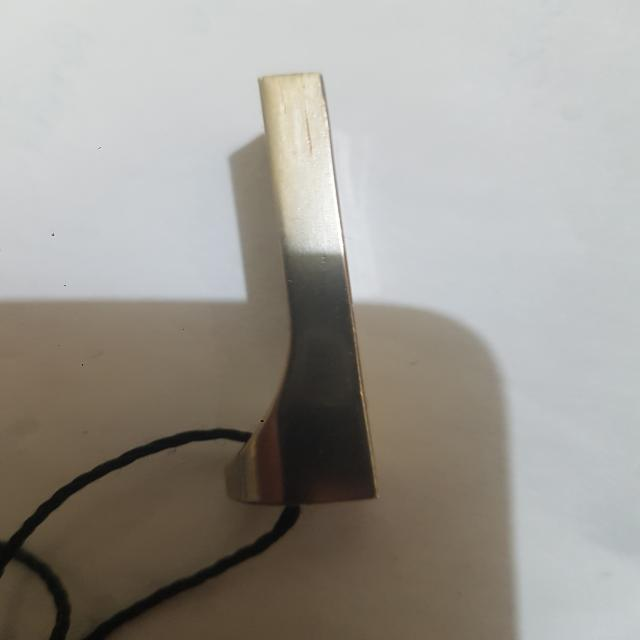electronic: (176, 49, 448, 548)
